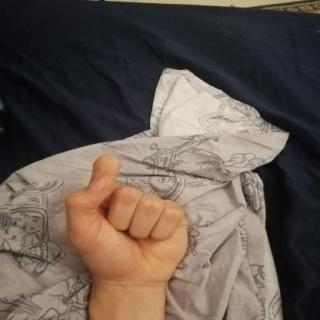FAA: (52, 149, 202, 294)
